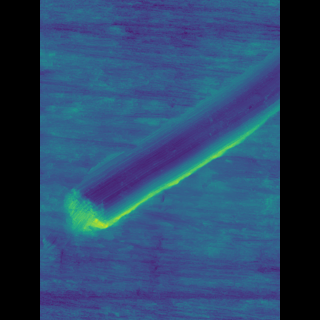Loch: (84, 42, 251, 245)
